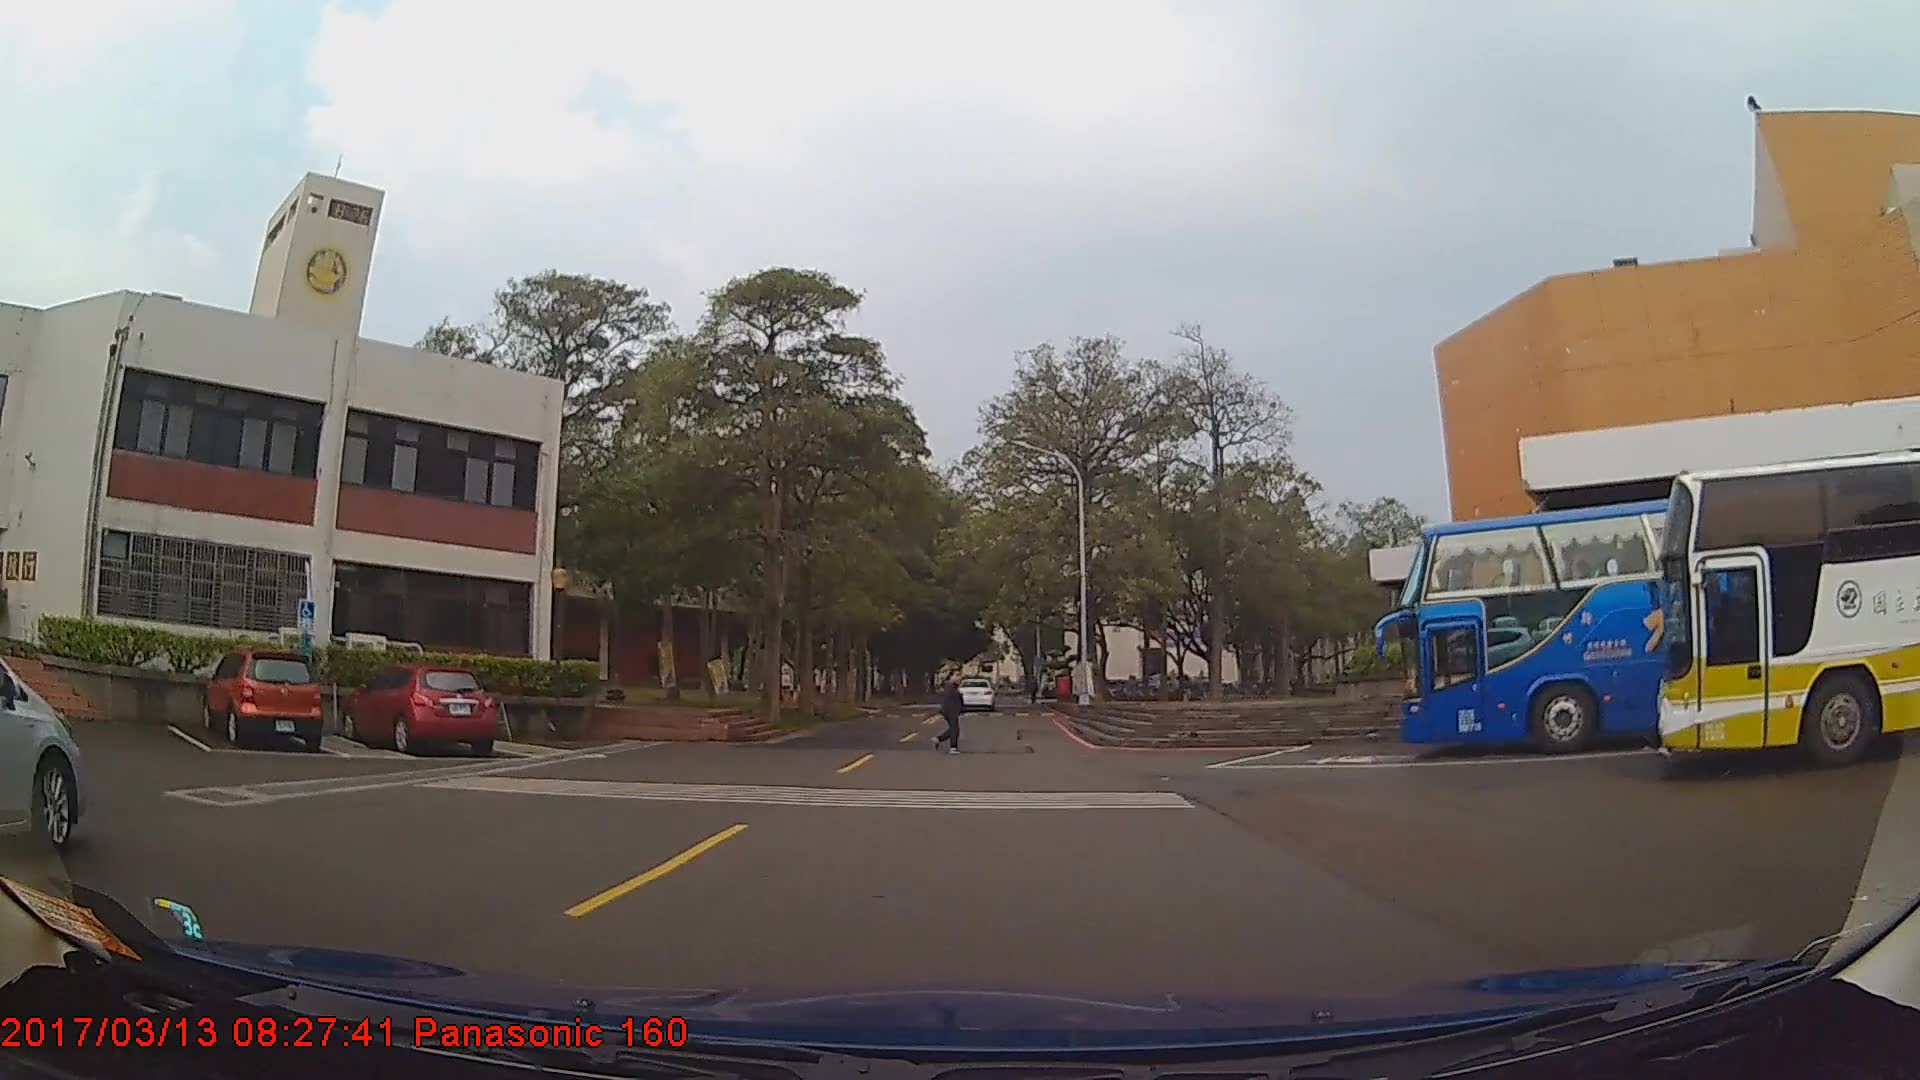pedestrian: (932, 665, 971, 753)
vehicle: (1402, 473, 1920, 754), (1657, 445, 1920, 768), (1, 654, 81, 847), (338, 664, 495, 754), (198, 648, 322, 753), (953, 675, 996, 710)
